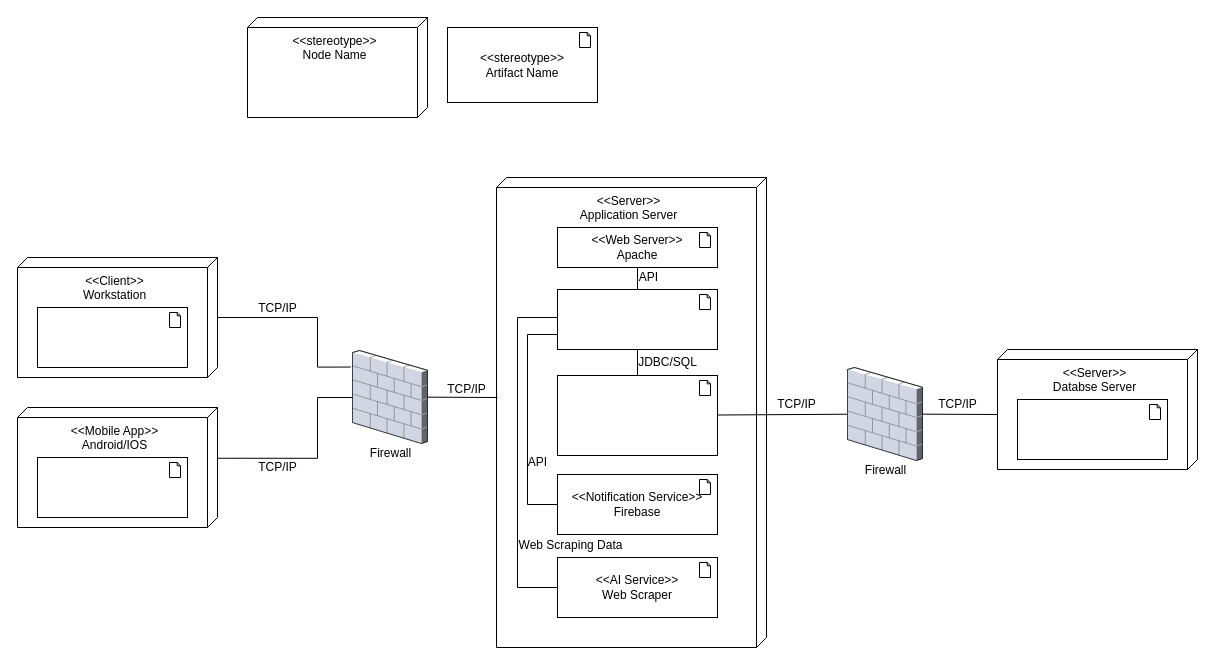
Image size: 1215x665. Some labels were removed from this diagram. Each missing label, with the centre of its shape:
"<<Application Server>> Java" goes at pixel 637 319.
"<<Application>> Helping Hands Application" goes at pixel 112 487.
"<<Data Storage>> MySQL Database" goes at pixel 1092 429.
"<<Database Access Login>> Java Database Connectivity" goes at pixel 637 415.
"<<Presentation Logic>> Web Browser" goes at pixel 112 337.
